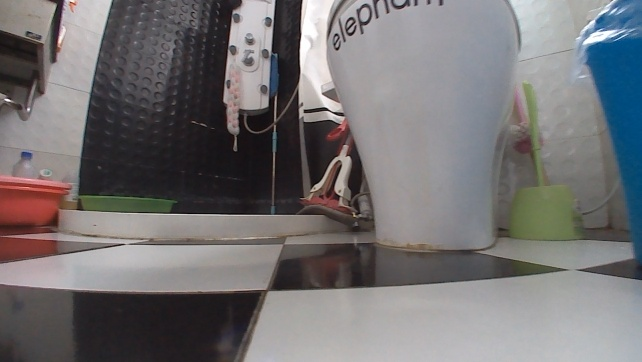toilet: (320, 0, 522, 257)
wire: (240, 83, 298, 136), (579, 176, 620, 220), (344, 191, 374, 213)
